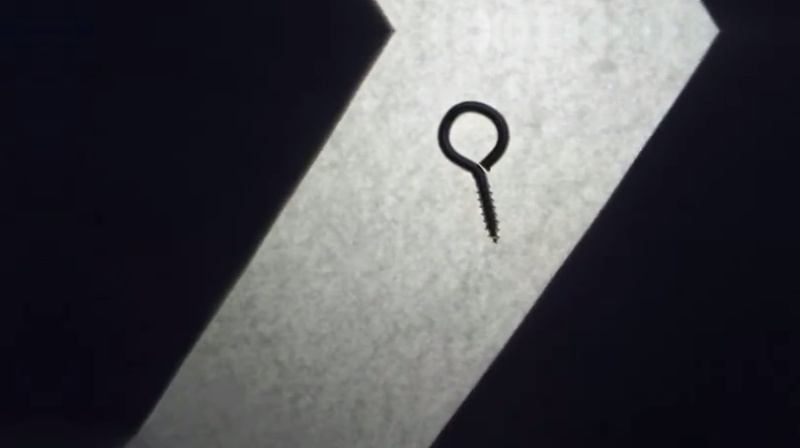O001: (433, 97, 514, 246)
